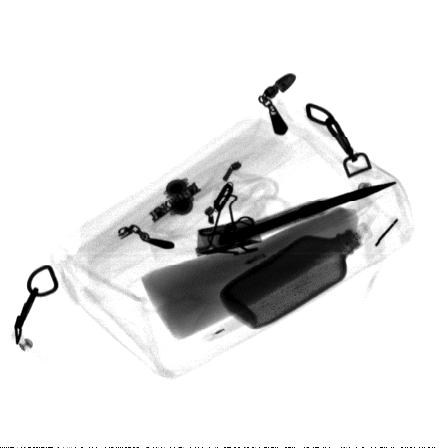Pliers: (214, 180, 399, 250)
